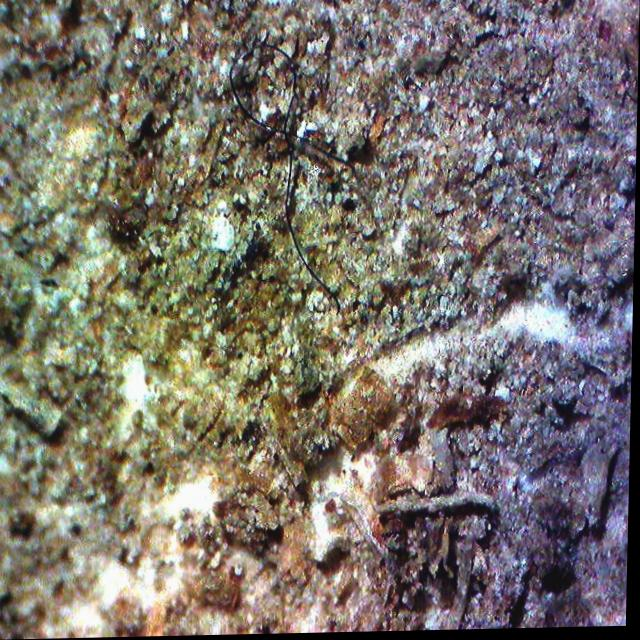microplastic: (283, 135, 344, 317), (218, 37, 306, 137)
